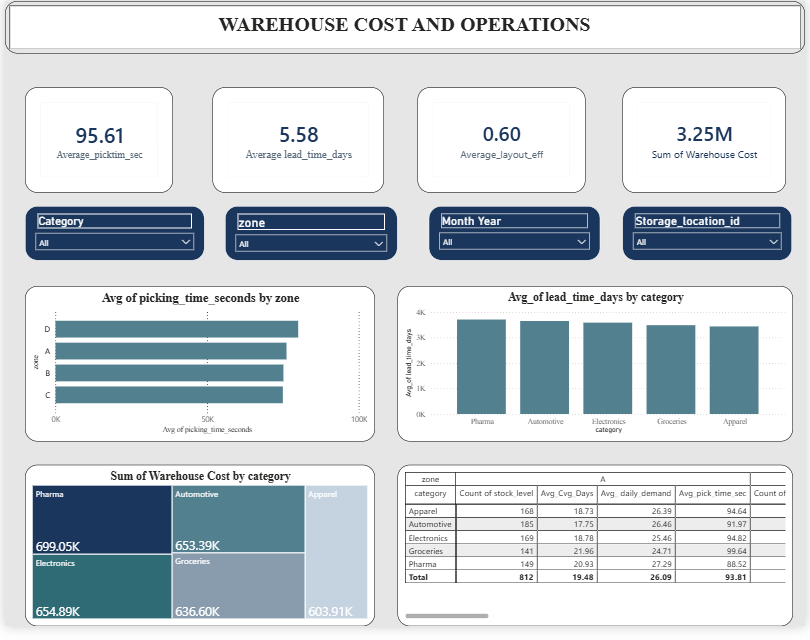

Layout of this report page (visuals, bound fields, positions):
{"tool":"powerbi","page":{"name":"Page 3","canvas":[1280,1000],"ordinal":2},"visuals":[{"type":"shape","box":[0,0,1280,84.3],"z":0},{"type":"textbox","box":[17.1,14.3,1242.9,52.9],"z":1000},{"type":"cardVisual","fields":{"Data":["Avg(logistics_dataset.picking_time_seconds)"]},"box":[31.4,137.1,237.1,168.6],"z":2000},{"type":"cardVisual","fields":{"Data":["Avg(logistics_dataset.lead_time_days)"]},"box":[331.4,137.1,274.3,168.6],"z":3000},{"type":"cardVisual","fields":{"Data":["Avg(logistics_dataset.layout_efficiency_score)"]},"box":[660,137.1,268.6,168.6],"z":4000},{"type":"cardVisual","fields":{"Data":["Sum(logistics_dataset.Warehouse Cost)"]},"box":[988.6,137.1,261.4,168.6],"z":5000},{"type":"clusteredBarChart","fields":{"Category":["logistics_dataset.zone"],"Y":["Sum(logistics_dataset.picking_time_seconds)"]},"box":[31.4,455.7,560,248.6],"z":6000},{"type":"columnChart","fields":{"Category":["logistics_dataset.category"],"Y":["Sum(logistics_dataset.lead_time_days)"]},"box":[627.1,455.7,632.9,248.6],"z":7000},{"type":"treemap","fields":{"Group":["logistics_dataset.category"],"Values":["Sum(logistics_dataset.Warehouse Cost)"]},"box":[31.4,741.4,560,258.6],"z":8000},{"type":"pivotTable","fields":{"Columns":["logistics_dataset.zone"],"Rows":["logistics_dataset.category"],"Values":["CountNonNull(logistics_dataset.stock_level)","Avg(logistics_dataset.Coverage_Days)","Avg(logistics_dataset.daily_demand)","Avg(logistics_dataset.picking_time_seconds)"]},"box":[627.1,741.4,632.9,258.6],"z":9000},{"type":"slicer","fields":{"Values":["logistics_dataset.category"]},"box":[31.4,328.6,287.1,87.1],"z":10000},{"type":"slicer","fields":{"Values":["logistics_dataset.zone"]},"box":[351.4,328.6,275.7,87.1],"z":11000},{"type":"slicer","fields":{"Values":["logistics_dataset.Month Year Column"]},"box":[678.6,328.6,274.3,87.1],"z":12000},{"type":"slicer","fields":{"Values":["logistics_dataset.storage_location_id"]},"box":[988.6,328.6,271.4,87.1],"z":13000}]}

Visuals, with their boxes in screenshot pixels (x1, y1, x2, y2), scaled from the page's 1280x1000 canvas onto the 810x640 screenshot:
shape: <bbox>0, 0, 809, 54</bbox>
textbox: <bbox>11, 9, 797, 43</bbox>
cardVisual - Avg(logistics_dataset.picking_time_seconds): <bbox>20, 88, 170, 196</bbox>
cardVisual - Avg(logistics_dataset.lead_time_days): <bbox>210, 88, 383, 196</bbox>
cardVisual - Avg(logistics_dataset.layout_efficiency_score): <bbox>418, 88, 588, 196</bbox>
cardVisual - Sum(logistics_dataset.Warehouse Cost): <bbox>626, 88, 791, 196</bbox>
clusteredBarChart - logistics_dataset.zone x Sum(logistics_dataset.picking_time_seconds): <bbox>20, 292, 374, 451</bbox>
columnChart - logistics_dataset.category x Sum(logistics_dataset.lead_time_days): <bbox>397, 292, 797, 451</bbox>
treemap - logistics_dataset.category x Sum(logistics_dataset.Warehouse Cost): <bbox>20, 474, 374, 639</bbox>
pivotTable - logistics_dataset.zone x logistics_dataset.category: <bbox>397, 474, 797, 639</bbox>
slicer - logistics_dataset.category: <bbox>20, 210, 202, 266</bbox>
slicer - logistics_dataset.zone: <bbox>222, 210, 397, 266</bbox>
slicer - logistics_dataset.Month Year Column: <bbox>429, 210, 603, 266</bbox>
slicer - logistics_dataset.storage_location_id: <bbox>626, 210, 797, 266</bbox>
